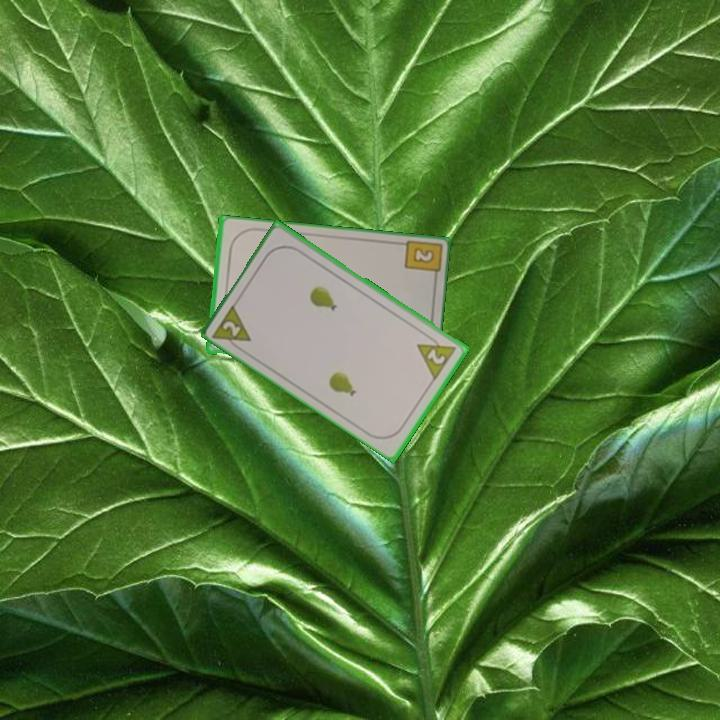2b: (400, 238, 442, 285)
2p: (210, 299, 255, 354), (413, 329, 459, 382)
